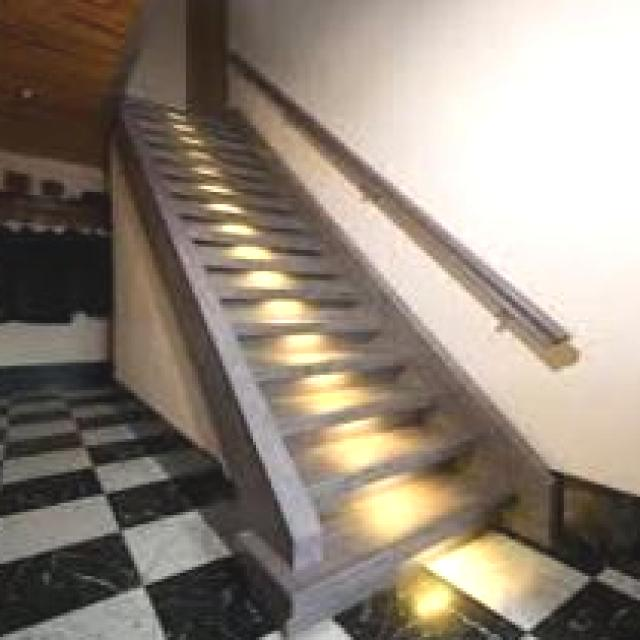upstair: (233, 321, 516, 577)
